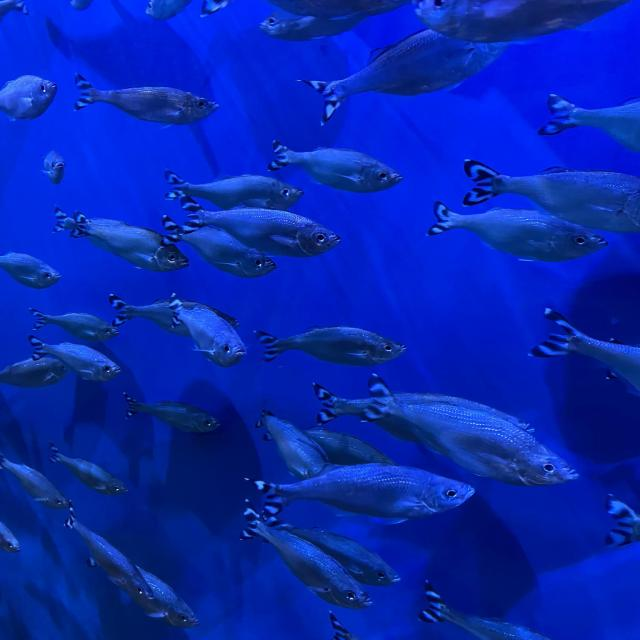fish: (310, 369, 580, 488), (298, 20, 500, 128), (55, 502, 203, 636), (232, 494, 381, 616), (244, 490, 403, 597), (229, 463, 484, 524), (456, 157, 640, 239), (421, 200, 612, 263), (105, 289, 242, 372), (175, 197, 342, 262), (410, 1, 640, 47), (529, 306, 640, 397), (158, 212, 282, 283), (70, 210, 193, 278), (68, 71, 220, 126), (414, 581, 555, 640), (264, 137, 404, 195), (255, 322, 408, 372), (160, 169, 309, 218), (535, 89, 640, 153), (114, 388, 228, 446), (253, 406, 324, 480), (252, 7, 393, 42), (46, 441, 125, 502), (0, 453, 72, 518), (26, 333, 130, 376), (25, 304, 121, 343), (0, 70, 58, 126), (50, 206, 134, 243), (595, 492, 640, 548), (0, 250, 59, 290), (1, 355, 65, 386), (36, 148, 68, 189), (144, 0, 195, 20), (0, 516, 20, 556), (0, 0, 27, 24)
